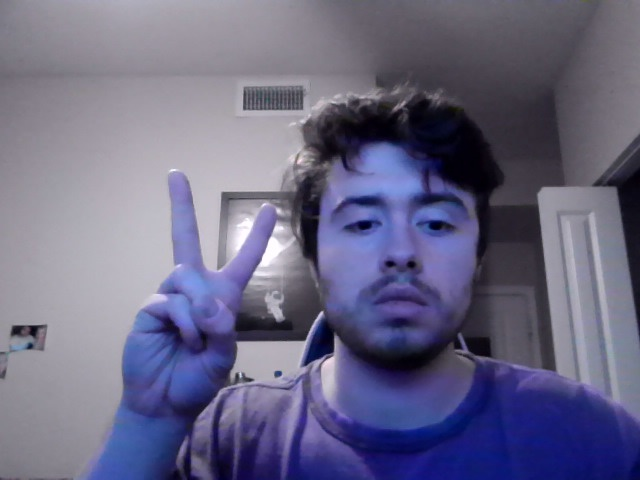v: (121, 169, 277, 444)
